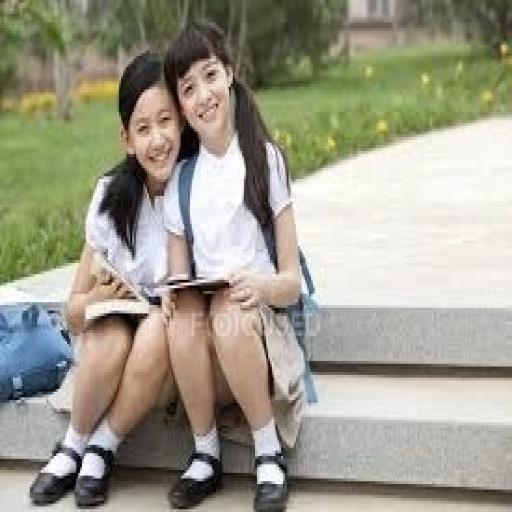sitting: (158, 17, 306, 509), (28, 48, 184, 509)
